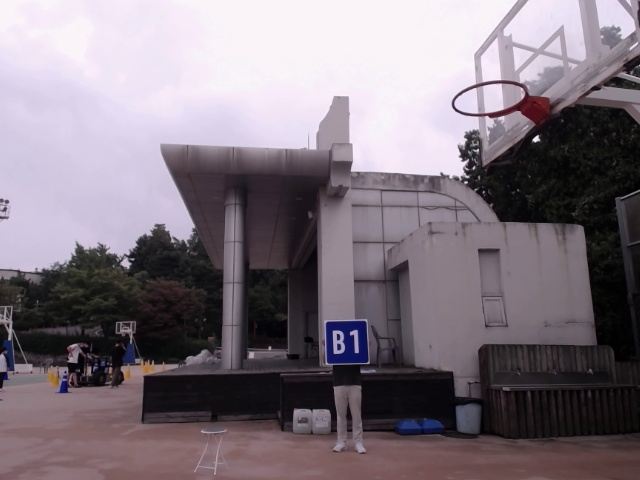delivery_b1: (324, 320, 369, 365)
